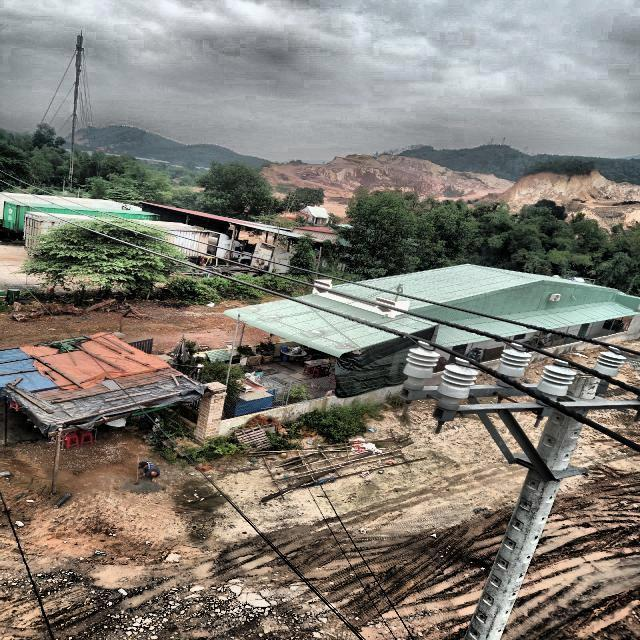crossarm: (403, 381, 612, 401), (436, 401, 640, 407)
pole: (457, 378, 600, 640)
wire: (0, 190, 640, 457), (0, 177, 636, 394), (0, 171, 635, 353)
